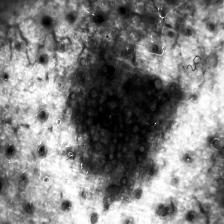Benign Marking or Mole: (63, 34, 181, 212)
